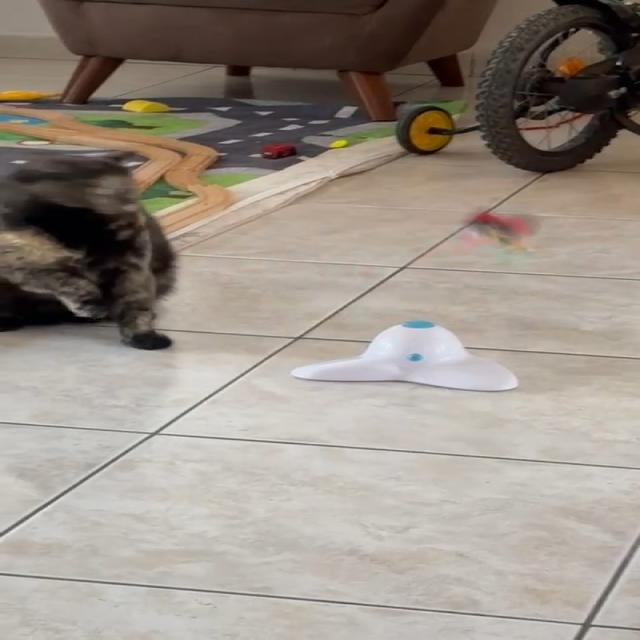authorized: (0, 145, 179, 350)
